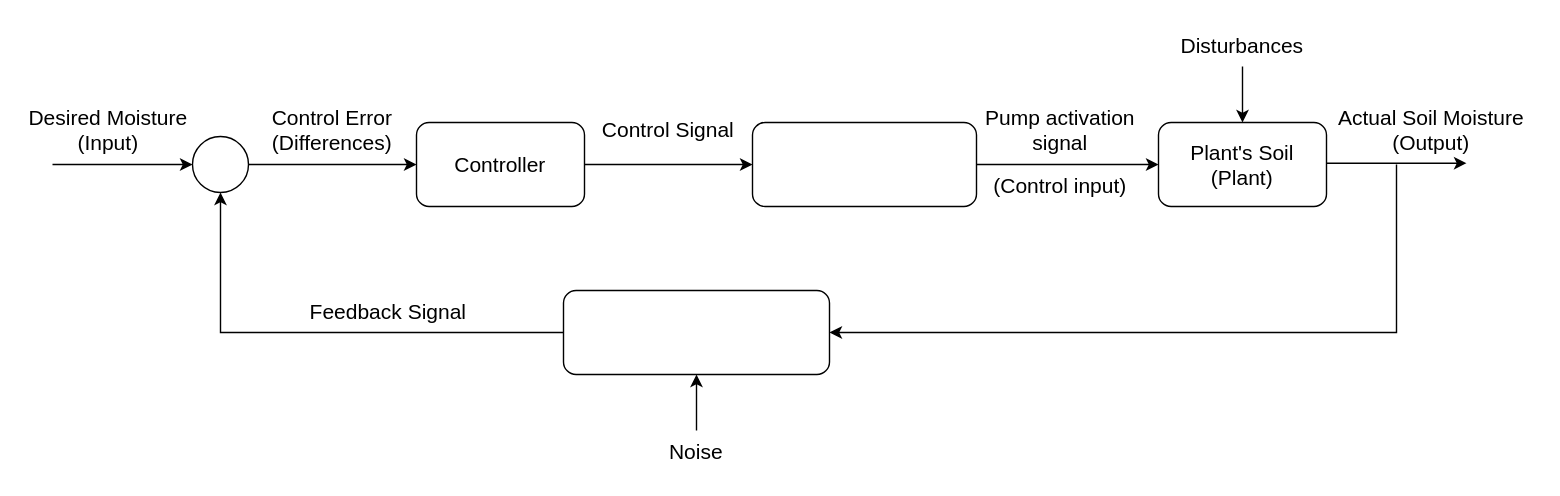
Image size: 1560x496. Some labels were removed from this diagram. The shapes that lost their labels are listed below. From the top down, each one's centre as x and y in pixels, then its label:
the point at 863,163: Relay (Signal Conditioning)
the point at 696,331: Soil Moisture Sensor (Sensing Element)
